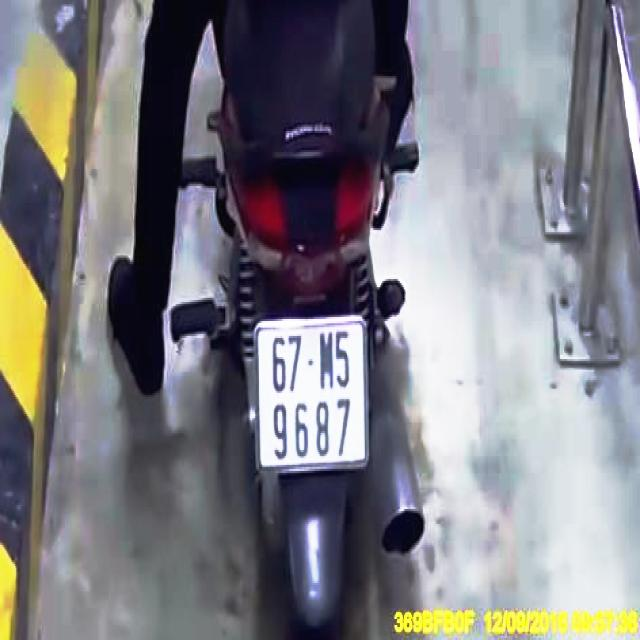license_plate: (256, 323, 369, 473)
